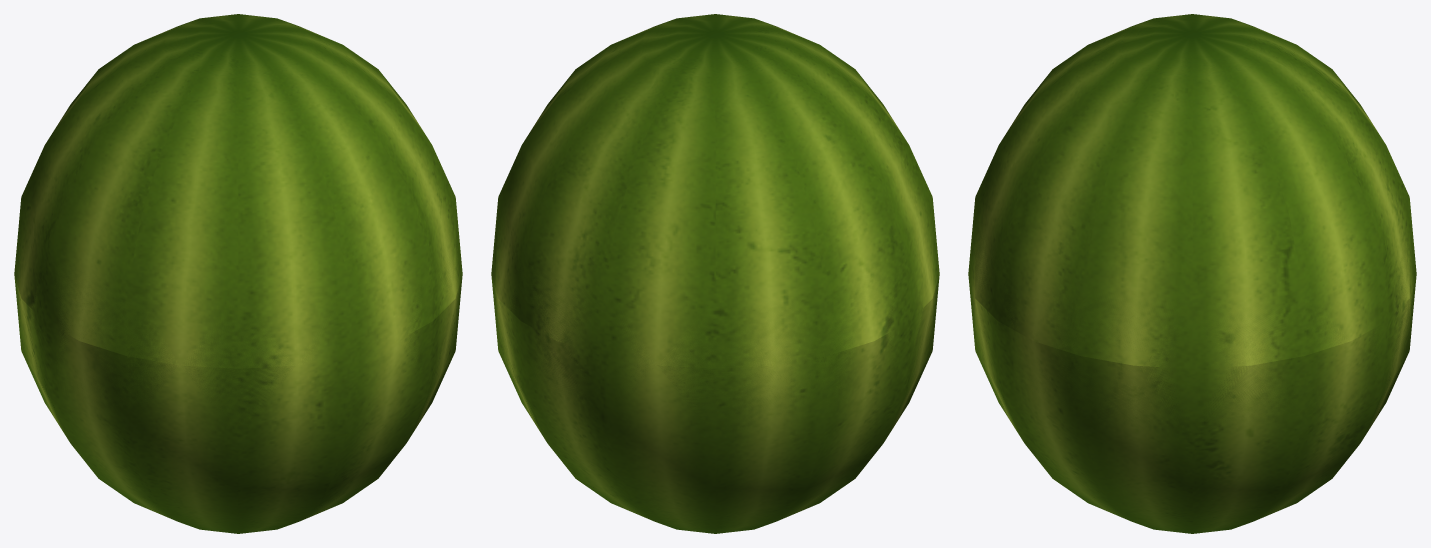
The model's file is Watermelon.fbx.
3 views of the same model, side by side, from view 1: azimuth 30°, elevation 25°; view 2: azimuth 150°, elevation 25°; view 3: azimuth 270°, elevation 25° (orthographic).
Parts seen in each view (by area): view 1: Watermelon_Whole, Watermelon_Half_Top, Watermelon_Half_Bottom; view 2: Watermelon_Whole, Watermelon_Half_Top, Watermelon_Half_Bottom; view 3: Watermelon_Whole, Watermelon_Half_Bottom, Watermelon_Half_Top.
Part boxes in pixels (x1,y1,x2,y2): Watermelon_Whole: (21,14,462,533); Watermelon_Half_Top: (14,199,457,368); Watermelon_Half_Bottom: (14,275,462,441); Watermelon_Whole: (495,14,933,533); Watermelon_Half_Top: (491,199,939,368); Watermelon_Half_Bottom: (491,275,939,440); Watermelon_Whole: (968,14,1416,533); Watermelon_Half_Bottom: (975,299,1409,440); Watermelon_Half_Top: (975,200,1409,367).
Size of the model in its own units: 2.44 by 2.89 by 2.44.
